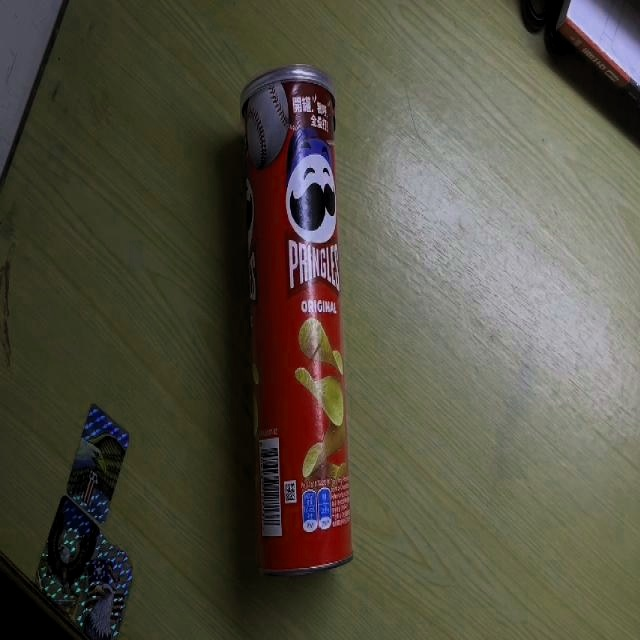Pringles: (239, 64, 354, 578)
